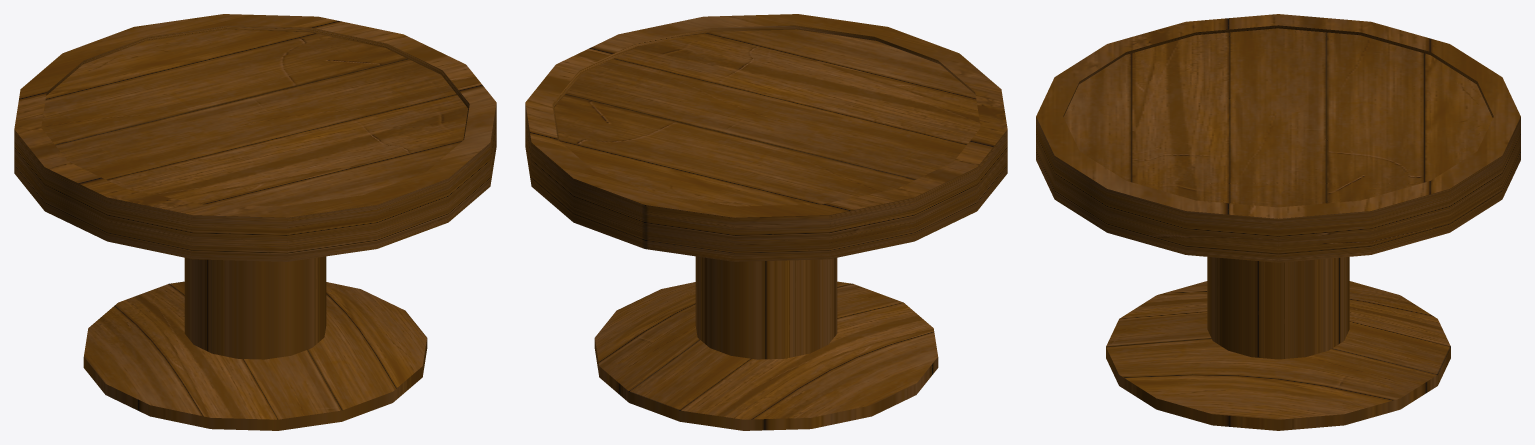
The model's file is Table.glb.
The picture shows the model from 3 angles, left to right: view 1: azimuth 30°, elevation 25°; view 2: azimuth 150°, elevation 25°; view 3: azimuth 270°, elevation 25°; orthographic projection.
Visible parts, largest first — view 1: Table; view 2: Table; view 3: Table.
Part boxes in pixels (<box>): Table: <box>14,14,496,430</box>; Table: <box>525,14,1007,430</box>; Table: <box>1036,14,1520,430</box>.
Size of the model in its own units: 2 by 1.1 by 2.
1 material, 1 textured.
